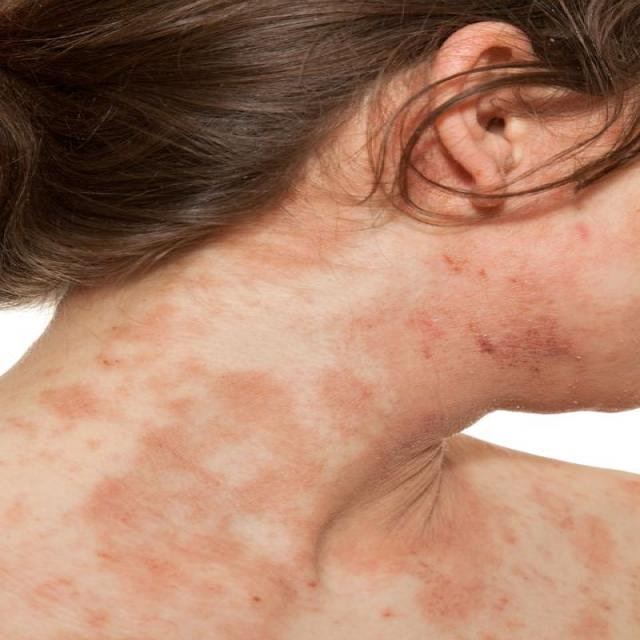eczema: (68, 378, 384, 609), (380, 268, 640, 358)
